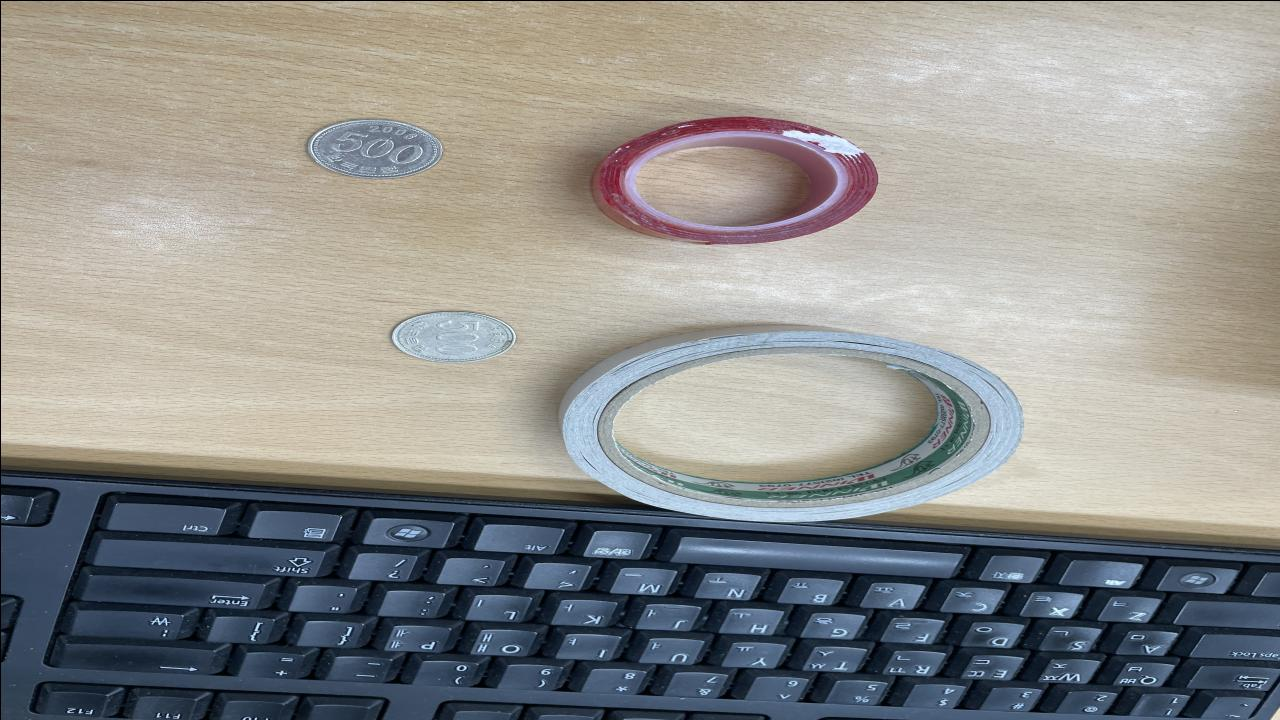coin: (308, 118, 442, 178), (392, 310, 516, 360)
